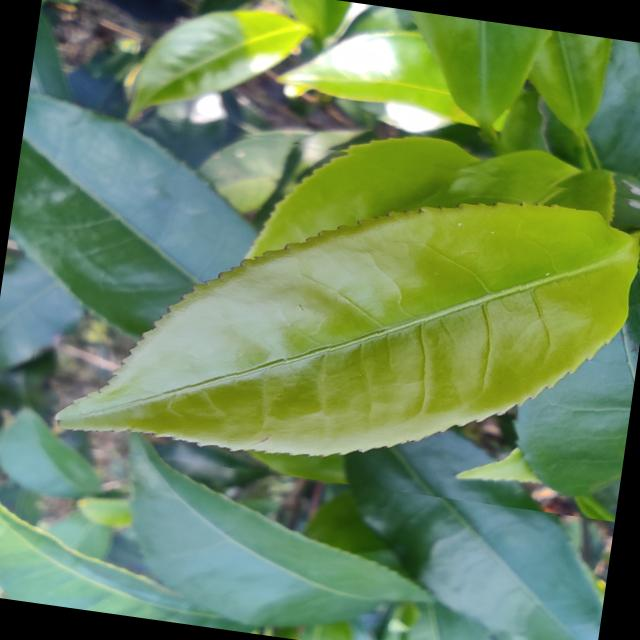Category B(2-4 days): (20, 106, 640, 521)
